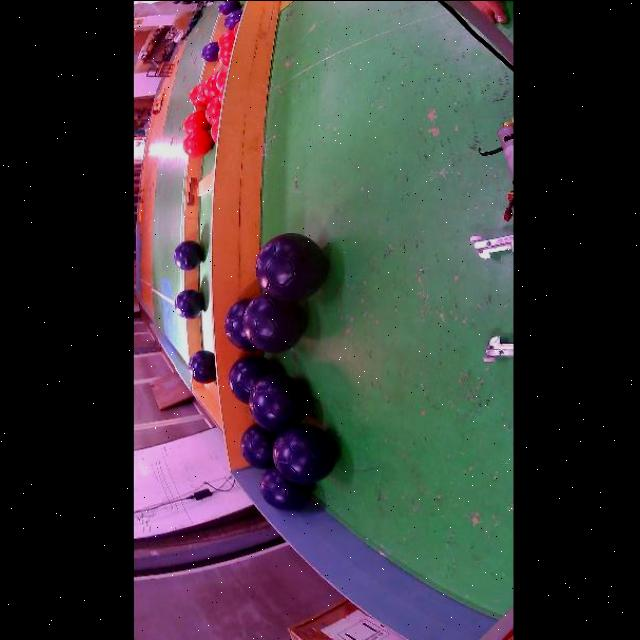B: (256, 232, 326, 302), (271, 424, 336, 484), (242, 293, 304, 352), (248, 374, 307, 432), (228, 355, 276, 404), (260, 467, 311, 511), (224, 298, 258, 351), (240, 424, 277, 469), (172, 240, 203, 271), (188, 350, 216, 383), (174, 289, 203, 318)
P: (200, 41, 219, 61), (223, 8, 242, 28), (217, 0, 240, 15)
R: (182, 128, 212, 157), (183, 111, 209, 133), (204, 96, 220, 124), (203, 71, 218, 99), (217, 41, 233, 65), (188, 84, 203, 106), (215, 65, 227, 90), (195, 83, 209, 104), (217, 29, 233, 46), (209, 116, 219, 143)
